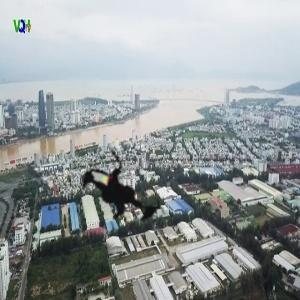drone: (59, 121, 195, 257)
